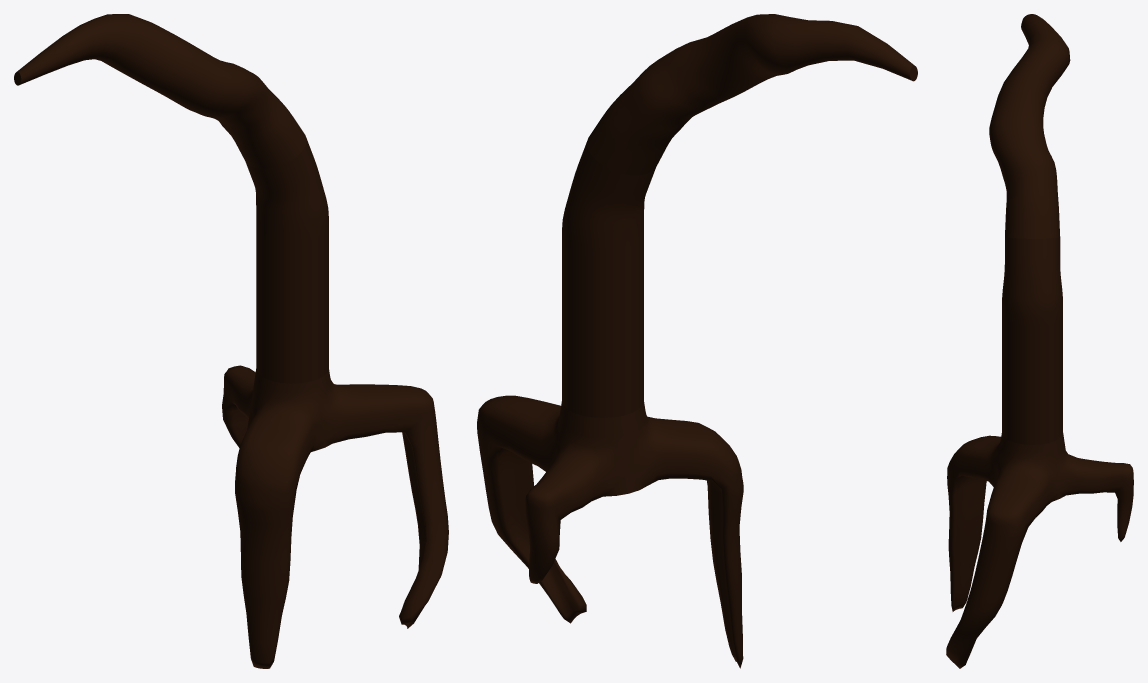
File: Arco_Tronco.FBX
3 renders of one model, left to right at view 1: azimuth 30°, elevation 25°; view 2: azimuth 150°, elevation 25°; view 3: azimuth 270°, elevation 25°, orthographic. The views are drawn at different scales.
Visible parts, largest first — view 1: Arco_Tronco; view 2: Arco_Tronco; view 3: Arco_Tronco.
Boxes of the visible parts, box(x1,y1,x2,y2) form: Arco_Tronco: box(14, 14, 448, 668); Arco_Tronco: box(477, 14, 917, 668); Arco_Tronco: box(946, 14, 1133, 668).
Size of the model in its own units: 103 by 156 by 49.65.
